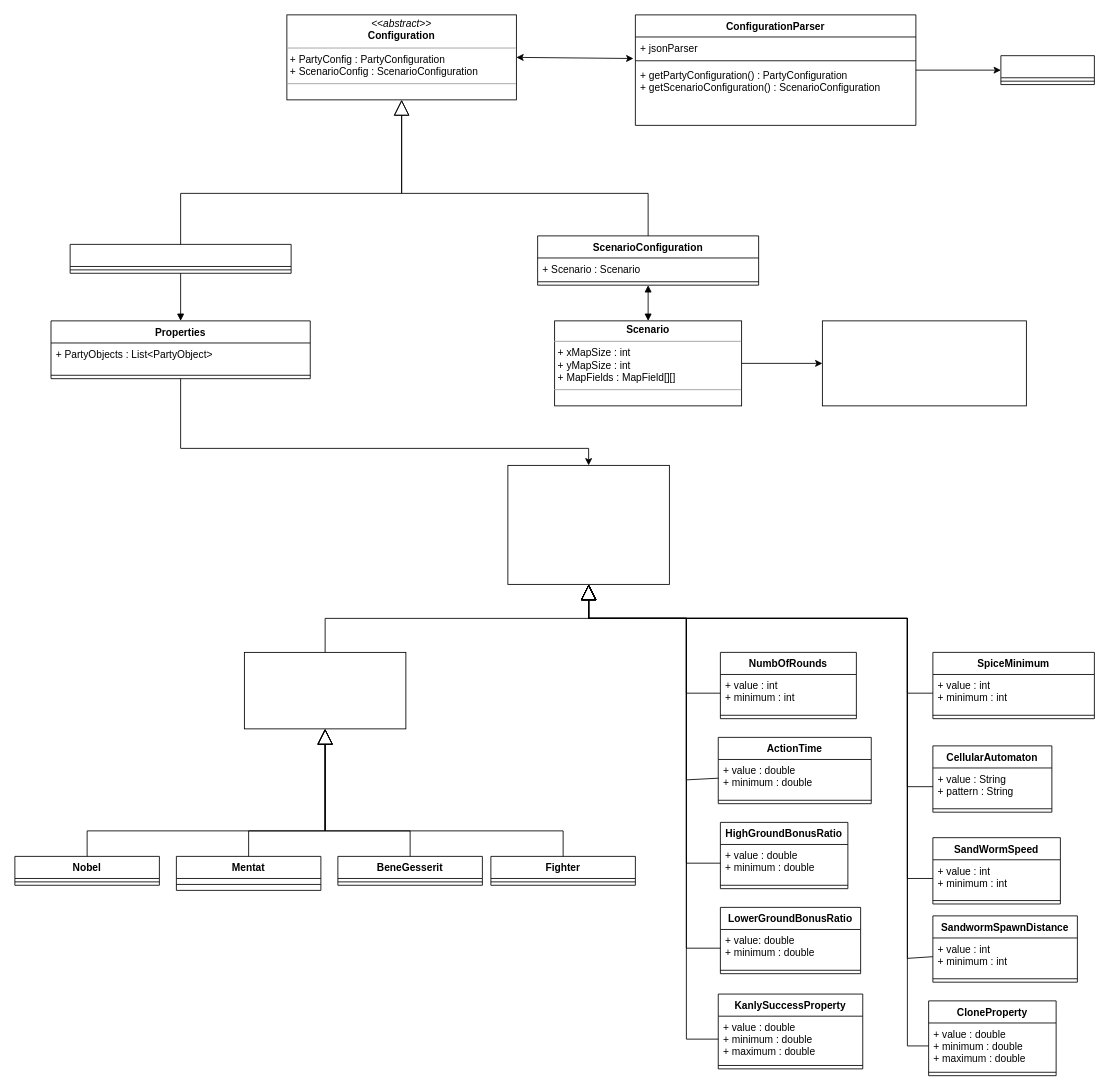
This 1109x1091 diagram has some shape labels left out. Each missing label, with the centre of its shape:
"<<abstract>> CharacterObject # items : int[6]" belongs at pixel 325 690.
"<<abstract>> PartyObject # id : String # title : String + method1(Type): Type" belongs at pixel 588 524.
"JsonParser" belongs at pixel 1047 70.
"MapField + fieldType : String + accessible : boolean + altitudeLevel : String" belongs at pixel 924 363.
"PartyConfiguration" belongs at pixel 180 258.
